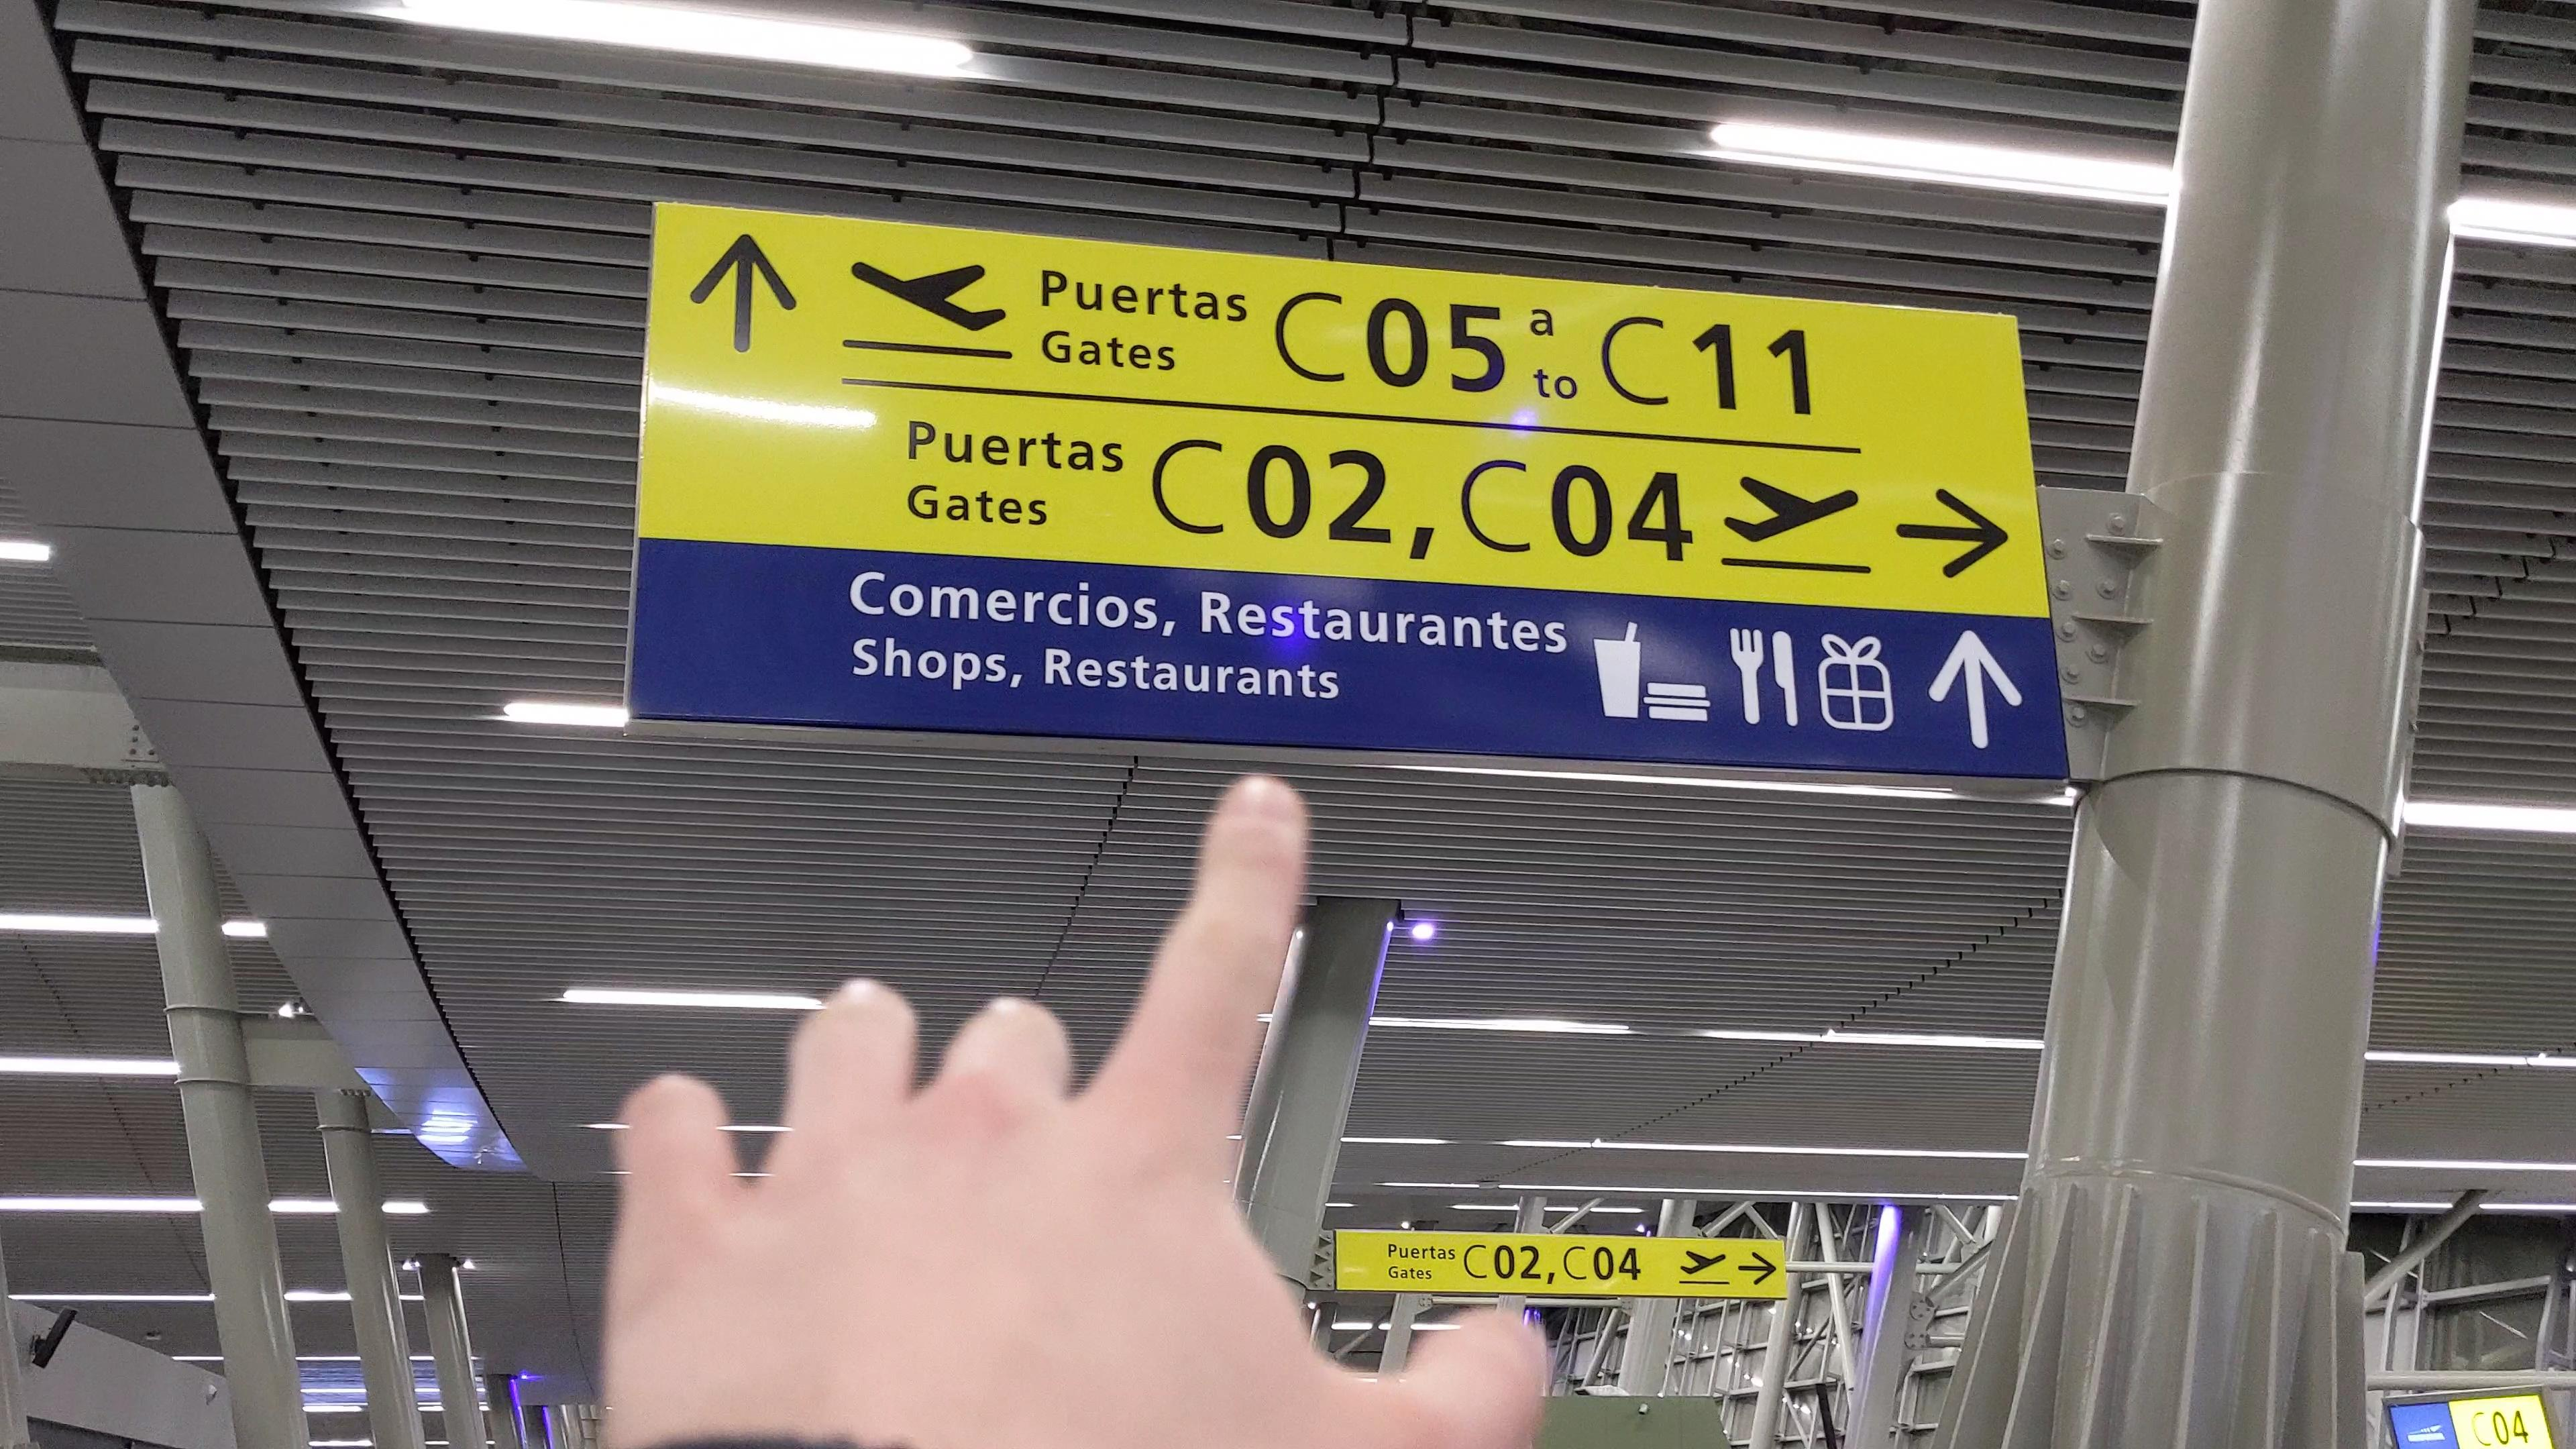airplane symbol: (846, 253, 1005, 336), (1714, 469, 1863, 548)
restaurants: (1727, 619, 1806, 734)
thin right arrow: (1895, 481, 2015, 586)
thin up arrow: (685, 230, 805, 359)
up arrow: (1928, 621, 2028, 752)
